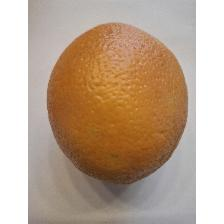Orange: (44, 20, 192, 188)
